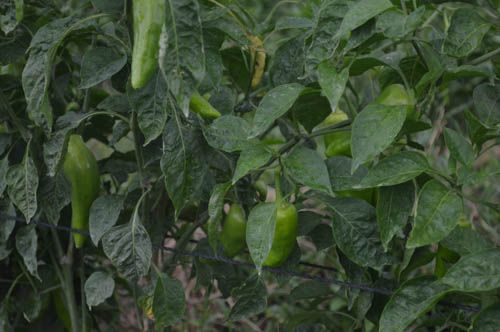ChiliPepper: (331, 82, 422, 164), (57, 137, 103, 257), (318, 108, 372, 205), (123, 1, 169, 92), (250, 200, 299, 273), (210, 205, 252, 256), (188, 87, 222, 121)
